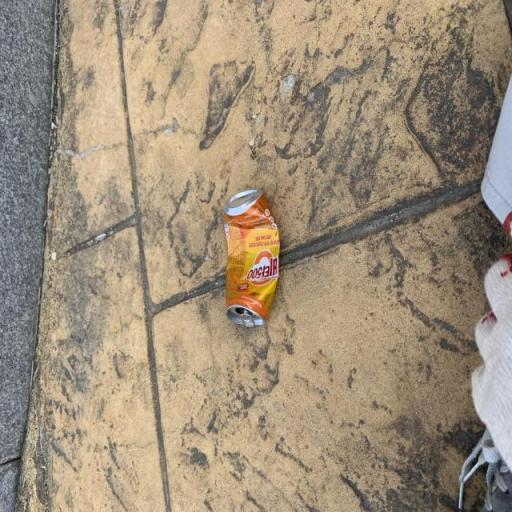metal: (212, 163, 290, 357)
